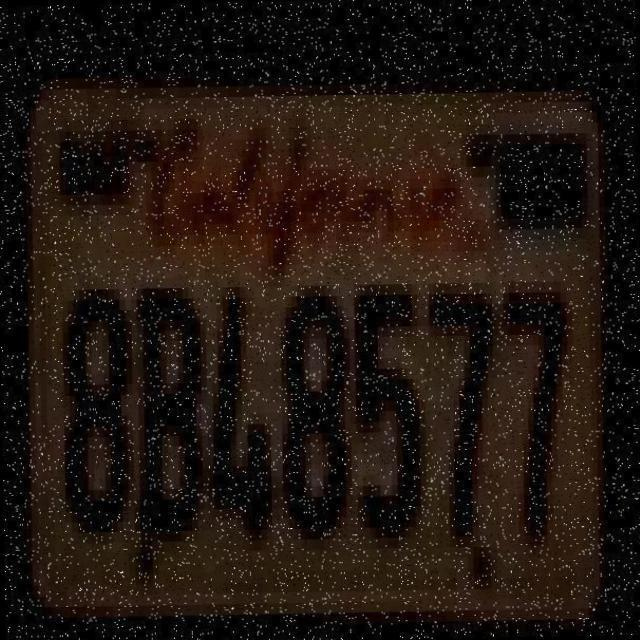License Plate: (16, 58, 624, 640)
